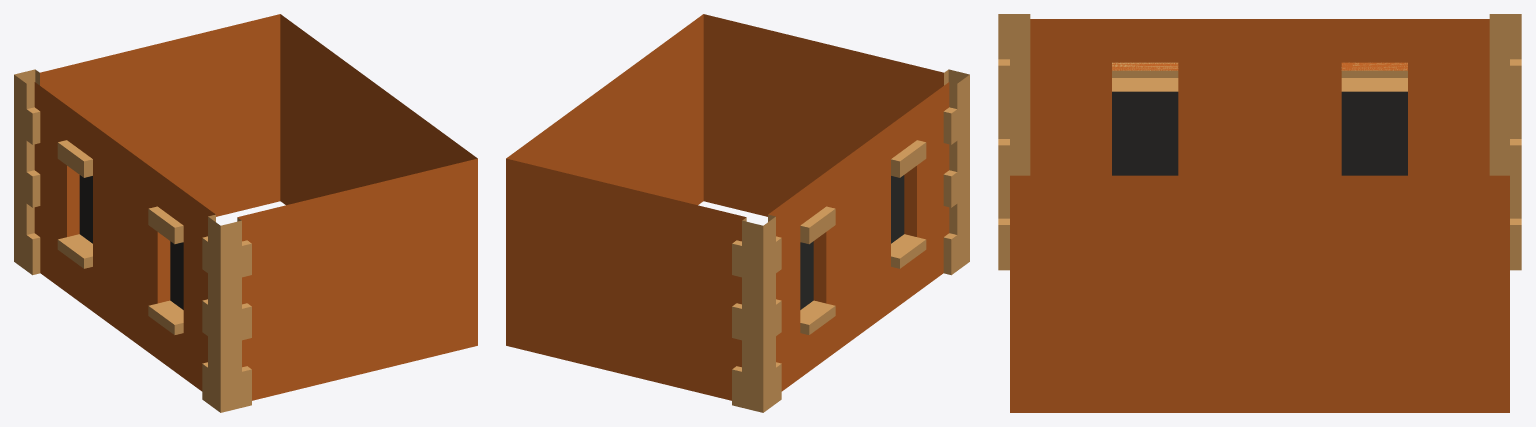
Rendered from building3_side_middle2.fbx.
3 renders of one model, left to right at view 1: azimuth 30°, elevation 25°; view 2: azimuth 150°, elevation 25°; view 3: azimuth 270°, elevation 25°, orthographic. The views are drawn at different scales.
Visible parts, largest first — view 1: building3_side_middle2; view 2: building3_side_middle2; view 3: building3_side_middle2.
Part boxes in pixels (box(x1,y1,x2,y2)): building3_side_middle2: box(14, 14, 477, 412); building3_side_middle2: box(506, 14, 969, 412); building3_side_middle2: box(998, 14, 1521, 412).
Bounding box in the file's own units: 367 × 250 × 500.
